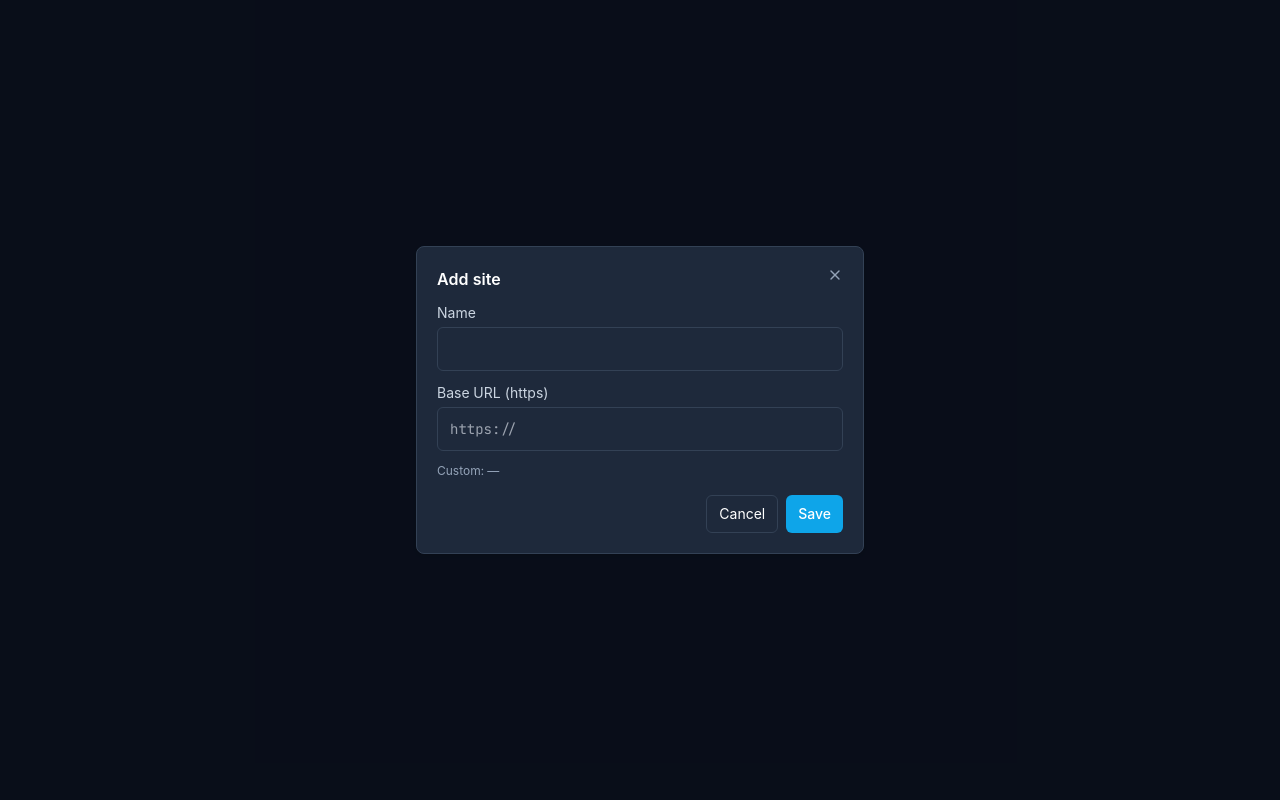
Test: F78 AddSiteQuick › shows the Name + Base URL fields, the derived host and Save/Cancel
Expected: the field with test id "add-site-name" is shown, [437, 327, 843, 371]
Expected: the button with test id "add-site-save" is shown, [786, 495, 843, 533]
Type "https://docs.python.org/3" into the field with test id "add-site-url" at [640, 429], box [437, 407, 843, 451]
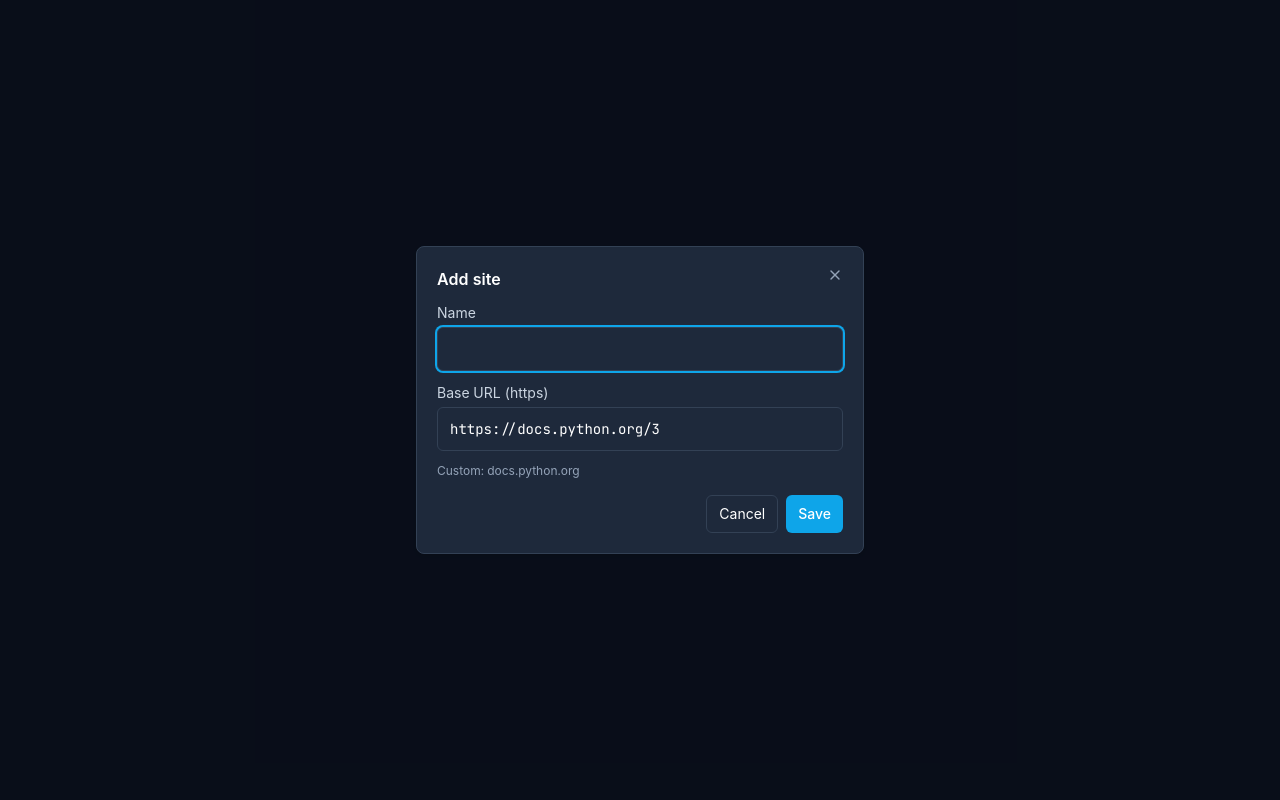
Expected: the text with test id "add-site-derived" shows "docs.python.org", [487, 463, 580, 478]
